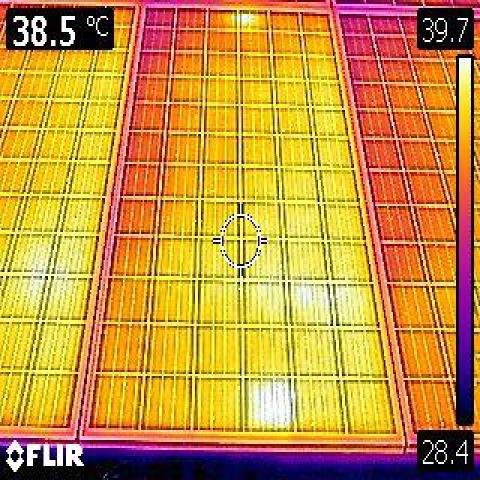fault: (246, 380, 292, 434), (230, 13, 253, 28)
